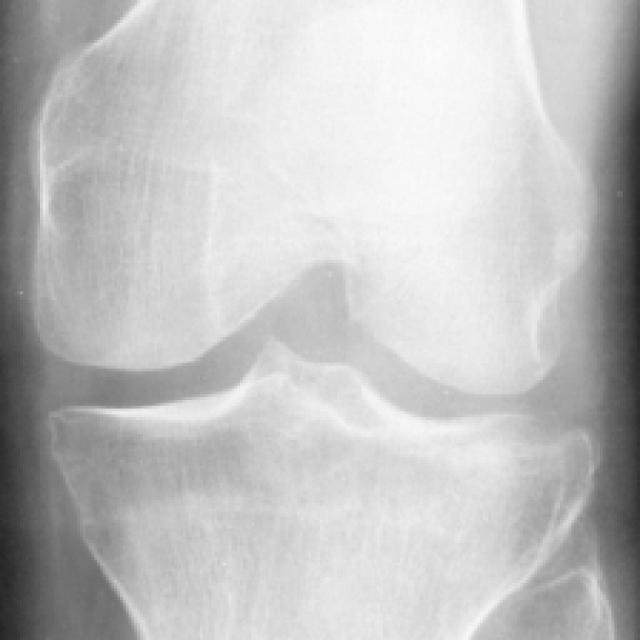femur: (25, 0, 594, 396)
tibia: (50, 340, 605, 640)
